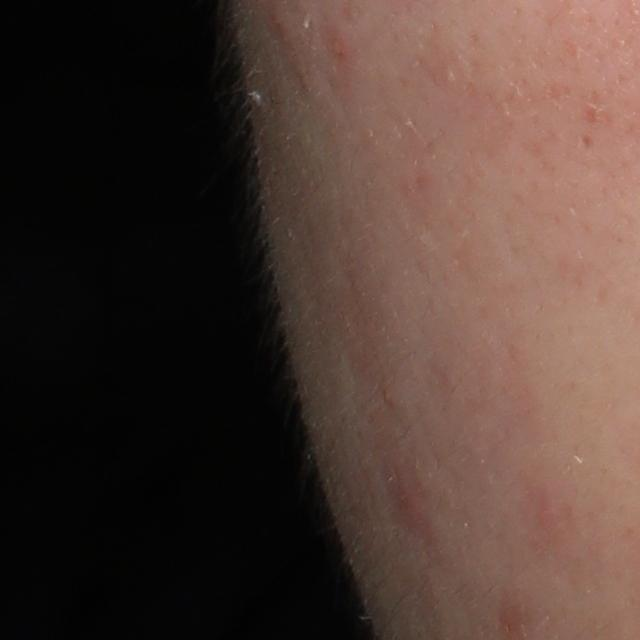papule: (390, 478, 421, 527), (329, 32, 349, 61)
